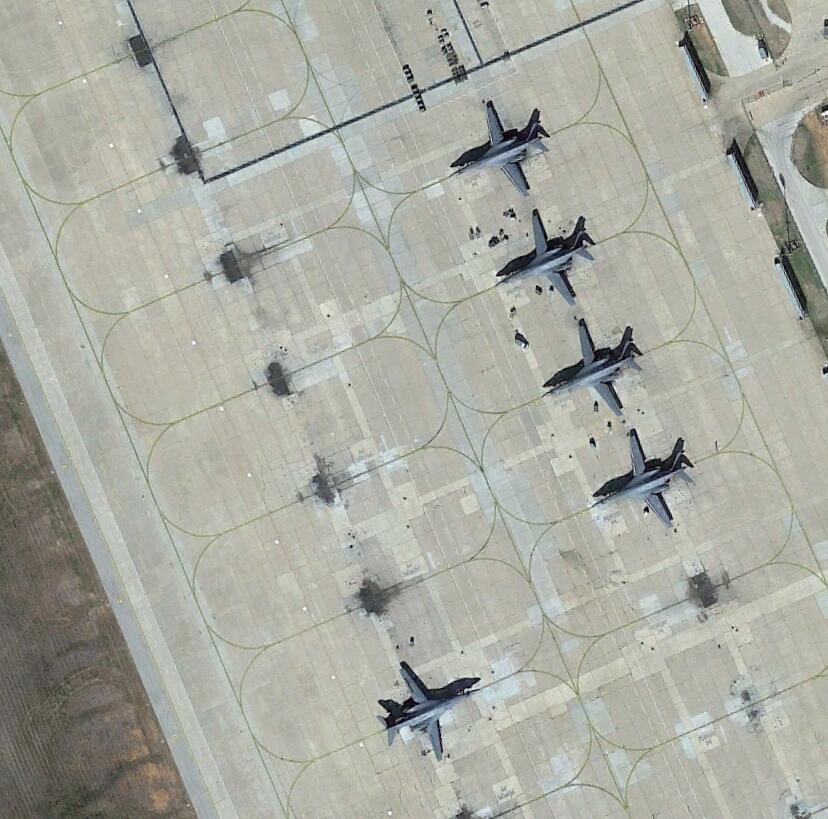A10: (374, 658, 484, 759), (540, 317, 645, 419), (453, 97, 556, 200), (493, 208, 596, 306), (594, 430, 698, 527)
